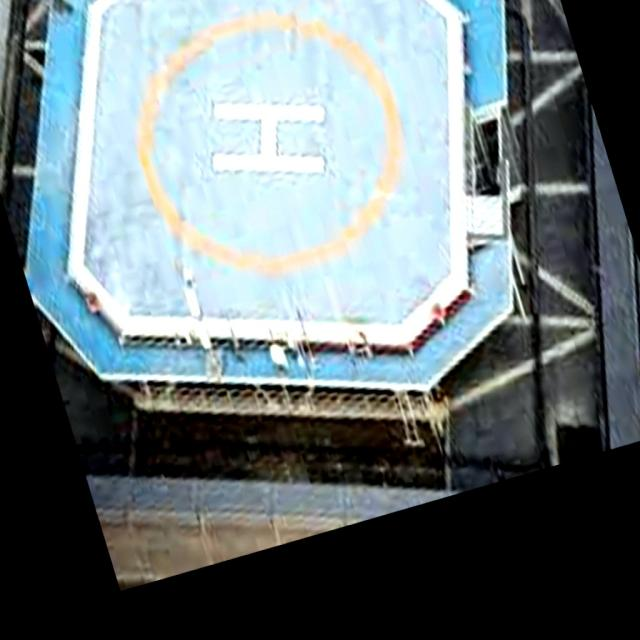helipad: (131, 3, 408, 278)
